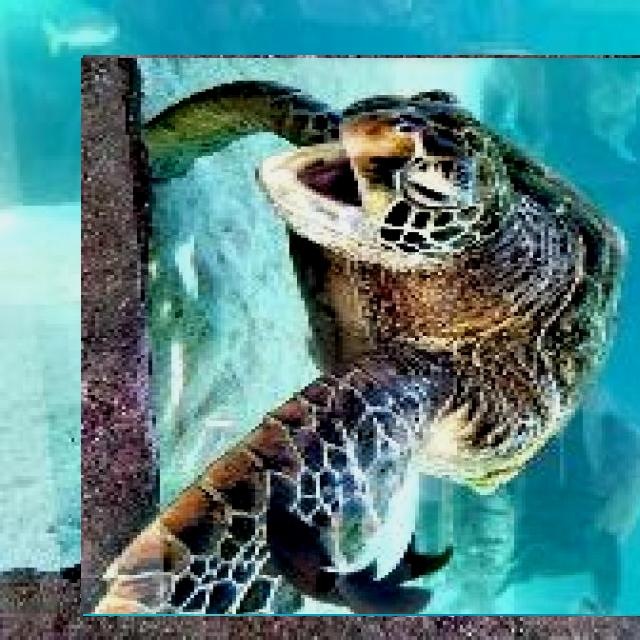Sea turtle: (82, 56, 640, 615)
